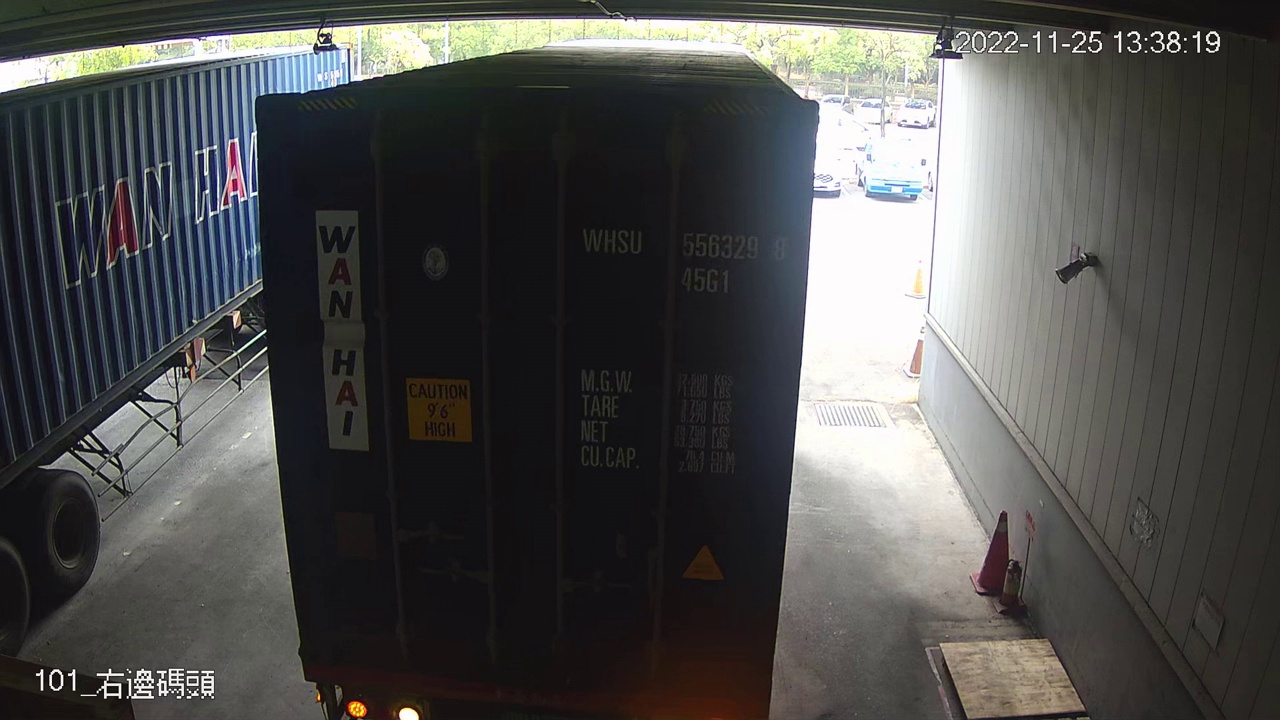container: (572, 213, 795, 299)
